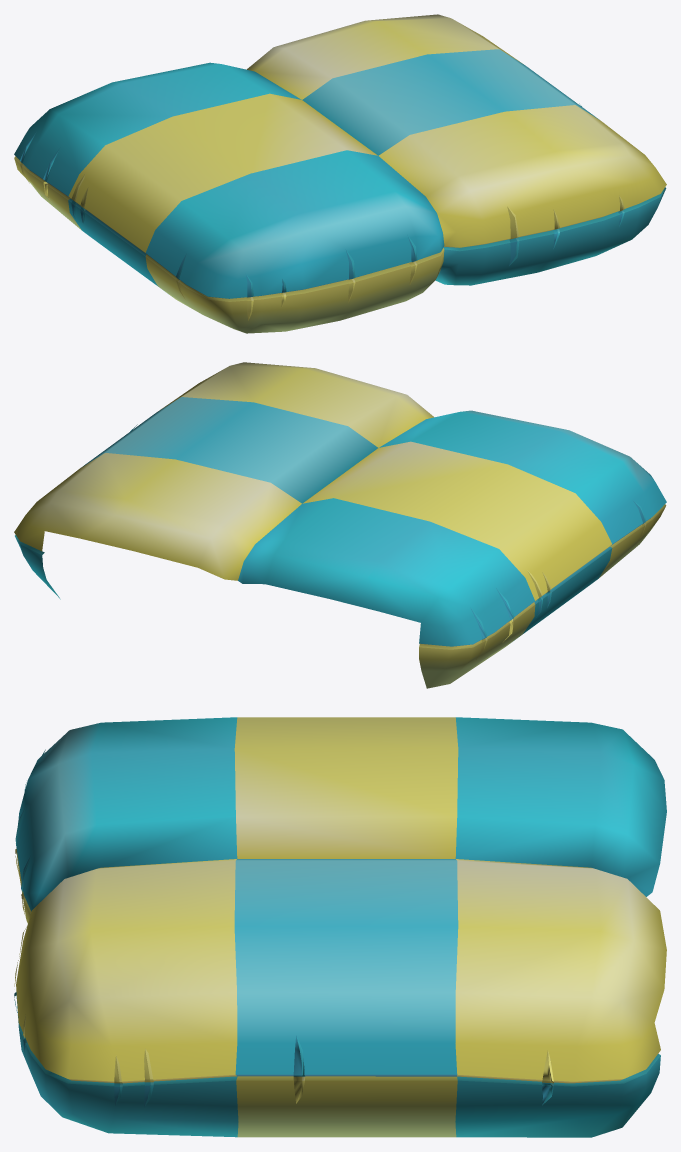
The model's file is Blob.glb.
The picture shows the model from 3 angles, top to bottom: view 1: azimuth 30°, elevation 25°; view 2: azimuth 150°, elevation 25°; view 3: azimuth 270°, elevation 25°; orthographic projection. The views are drawn at different scales.
Parts seen in each view (by area): view 1: Blob; view 2: Blob; view 3: Blob.
Boxes of the visible parts, box(x1,y1,x2,y2) form: Blob: box(14, 14, 666, 333); Blob: box(14, 362, 666, 688); Blob: box(14, 717, 666, 1137).
Bounding box in the file's own units: 5.07 × 1.17 × 4.27.
